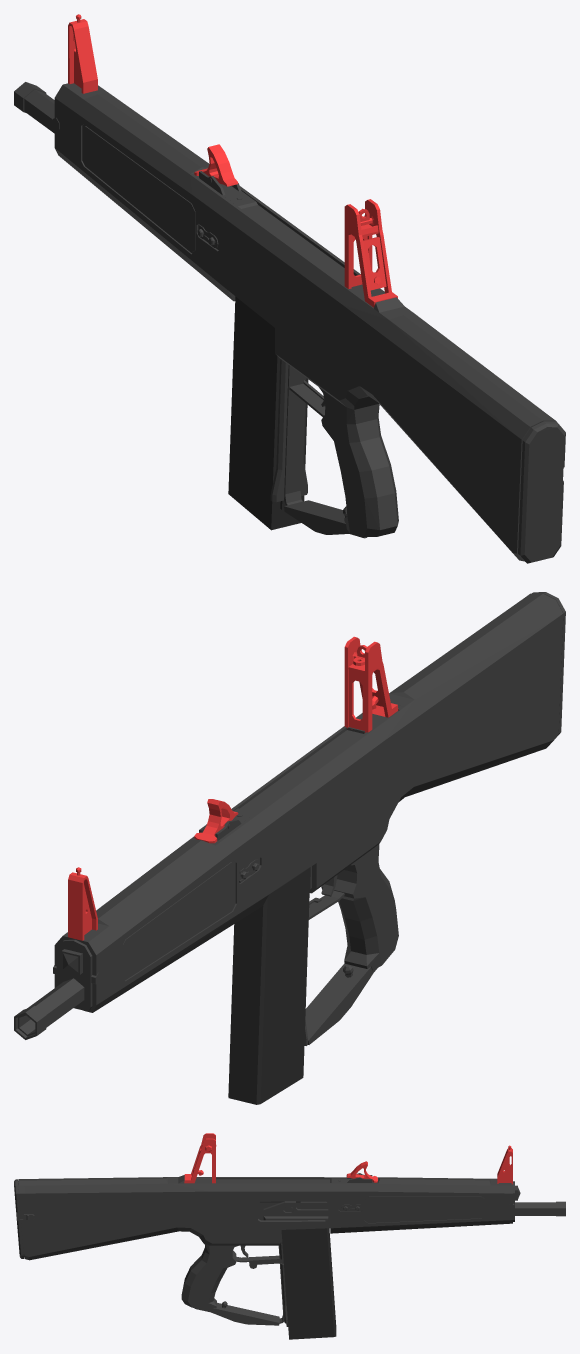
File: shotgun_3.glb
3 renders of one model, top to bottom at view 1: azimuth 30°, elevation 25°; view 2: azimuth 150°, elevation 25°; view 3: azimuth 270°, elevation 25°, orthographic. The views are drawn at different scales.
Parts seen in each view (by area): view 1: p6_paint, p44_mag, p27_paint, p36_del, p12_paint, p7_del, p32_paint, p1_paint, p11_del, p42_del; view 2: p6_paint, p44_mag, p32_paint, p12_paint, p36_del, p7_del, p1_paint, p3_paint, p11_del, p38_del; view 3: p6_paint, p44_mag, p23_paint, p32_paint, p36_del, p12_paint, p1_paint, p7_del, p27_paint.
Part boxes in pixels (x1,y1,x2,y2): p6_paint: [54, 83, 565, 563]; p44_mag: [228, 296, 308, 530]; p27_paint: [270, 359, 307, 505]; p36_del: [344, 199, 397, 307]; p12_paint: [199, 171, 344, 283]; p7_del: [68, 19, 97, 93]; p32_paint: [284, 500, 367, 538]; p1_paint: [24, 89, 54, 133]; p11_del: [194, 144, 238, 186]; p42_del: [363, 237, 386, 290]; p6_paint: [54, 592, 565, 1012]; p44_mag: [228, 867, 310, 1104]; p32_paint: [305, 963, 377, 1044]; p12_paint: [199, 730, 363, 840]; p36_del: [344, 636, 398, 732]; p7_del: [68, 872, 97, 940]; p1_paint: [18, 978, 84, 1036]; p3_paint: [56, 939, 92, 1011]; p11_del: [194, 799, 238, 843]; p38_del: [348, 669, 364, 730]; p6_paint: [14, 1175, 512, 1310]; p44_mag: [281, 1228, 336, 1339]; p23_paint: [263, 1201, 328, 1220]; p32_paint: [194, 1302, 279, 1325]; p36_del: [184, 1133, 215, 1183]; p12_paint: [216, 1173, 372, 1182]; p1_paint: [515, 1202, 555, 1215]; p7_del: [497, 1147, 512, 1184]; p27_paint: [278, 1239, 287, 1323].
Bounding box in the file's own units: 0.0506 × 0.3846 × 0.966.
